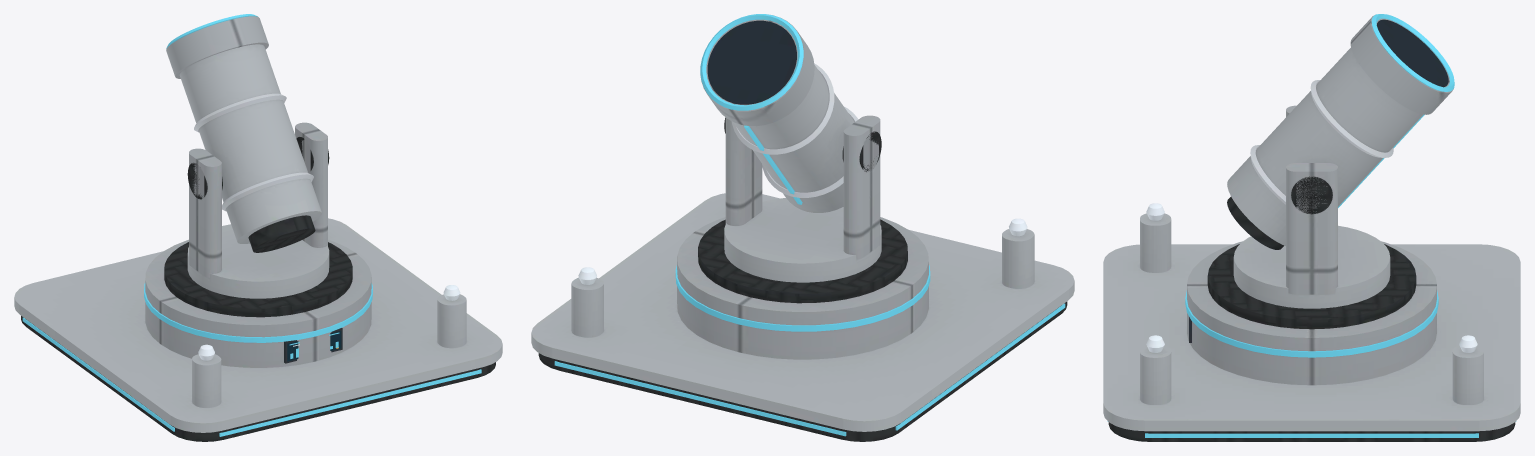
The model's file is observation_platform.glb.
The picture shows the model from 3 angles, left to right: view 1: azimuth 30°, elevation 25°; view 2: azimuth 150°, elevation 25°; view 3: azimuth 270°, elevation 25°; orthographic projection. The views are drawn at different scales.
Parts seen in each view (by area): view 1: te_observation_platform, move_scope; view 2: te_observation_platform, move_scope; view 3: te_observation_platform, move_scope.
Boxes of the visible parts, x1,y1,x2,y2 form: te_observation_platform: [14, 218, 502, 441]; move_scope: [166, 14, 329, 298]; te_observation_platform: [531, 193, 1074, 441]; move_scope: [700, 14, 881, 282]; te_observation_platform: [1103, 203, 1520, 441]; move_scope: [1227, 14, 1454, 308].
Size of the model in its own units: 0.8 by 0.7089 by 0.8.
1 material, 1 textured.
